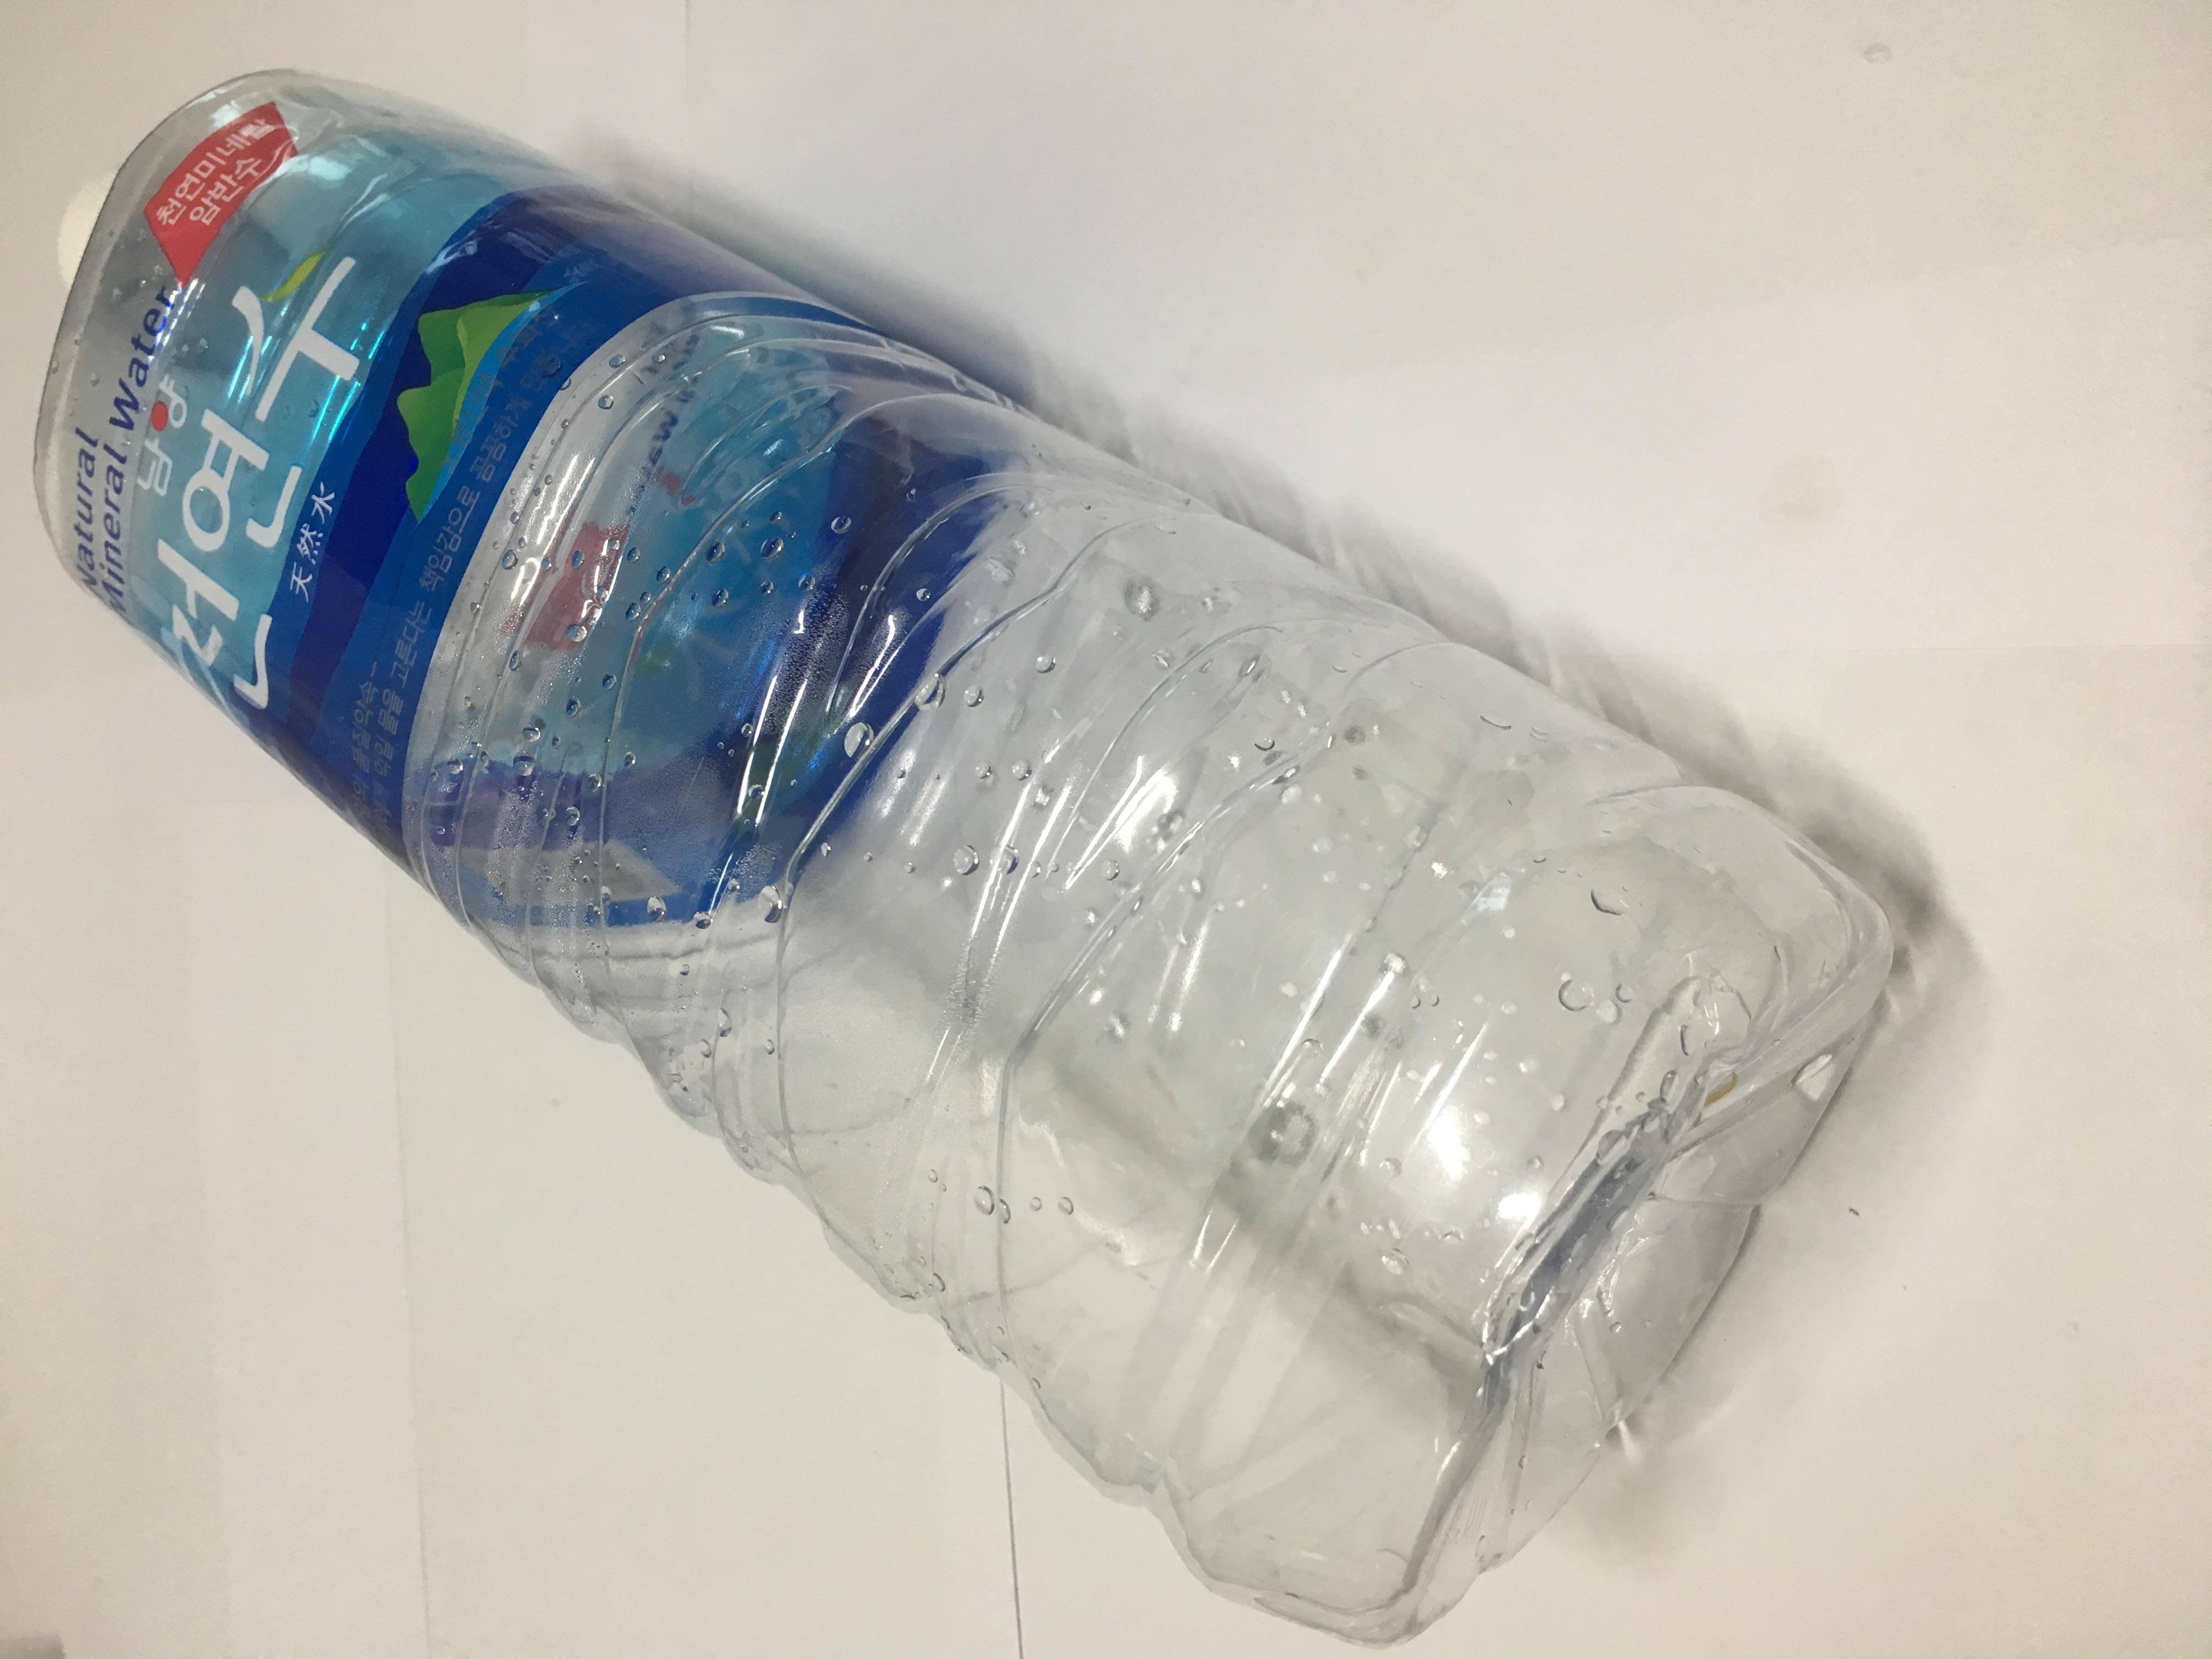bottle: (2, 30, 2125, 1323)
